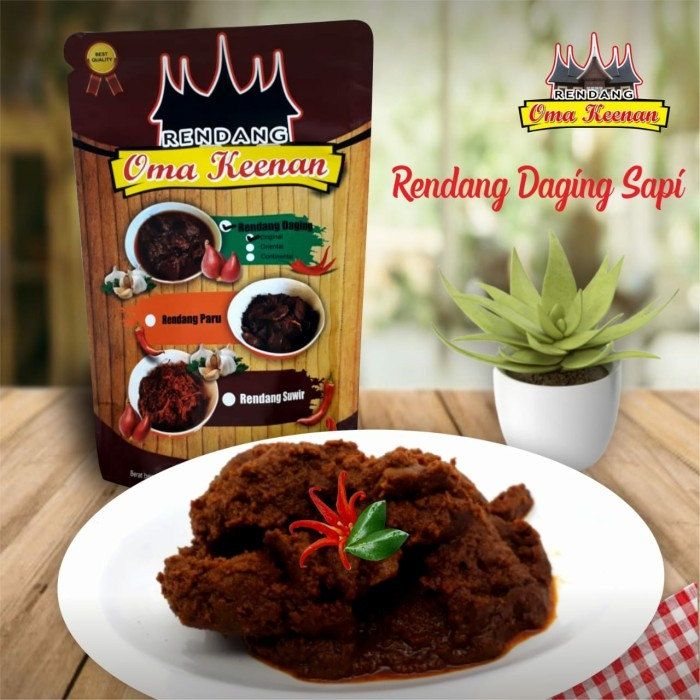rendang: (167, 443, 563, 681)
